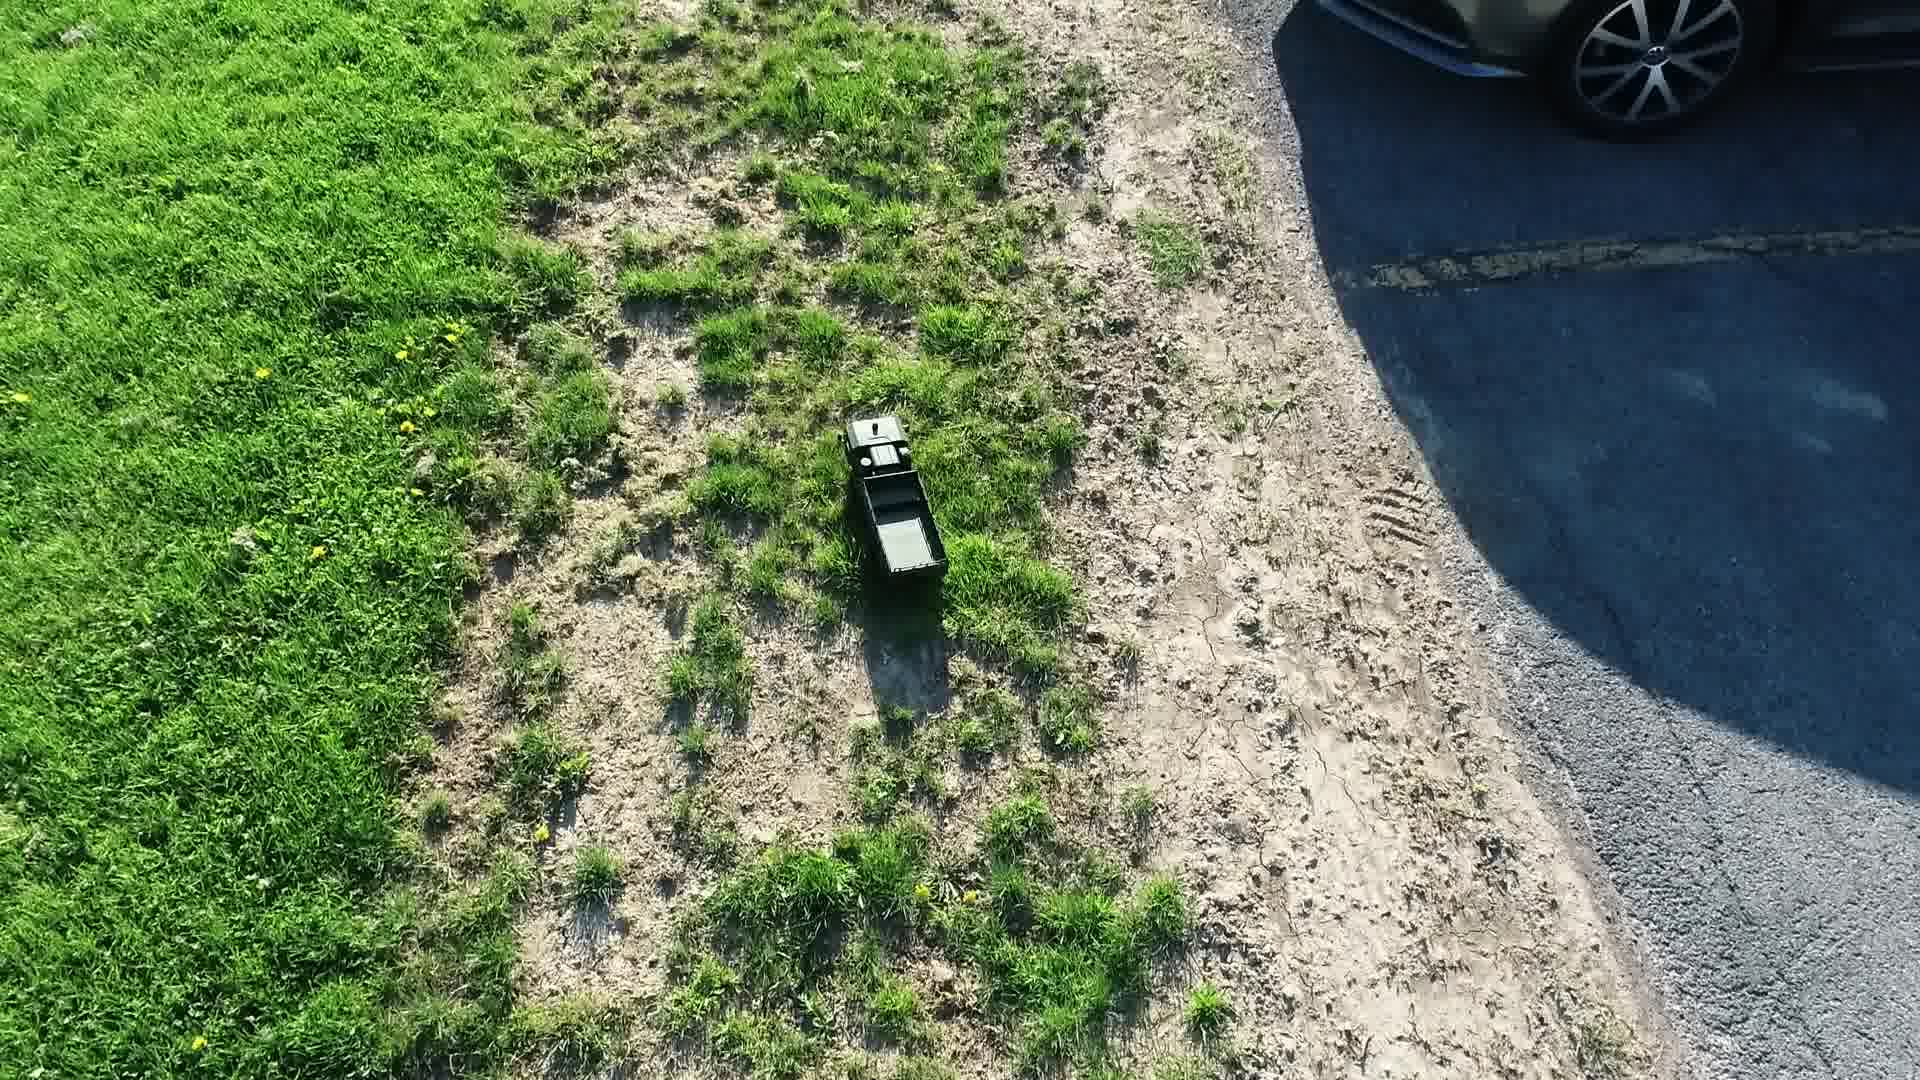transporter9: (833, 401, 961, 611)
